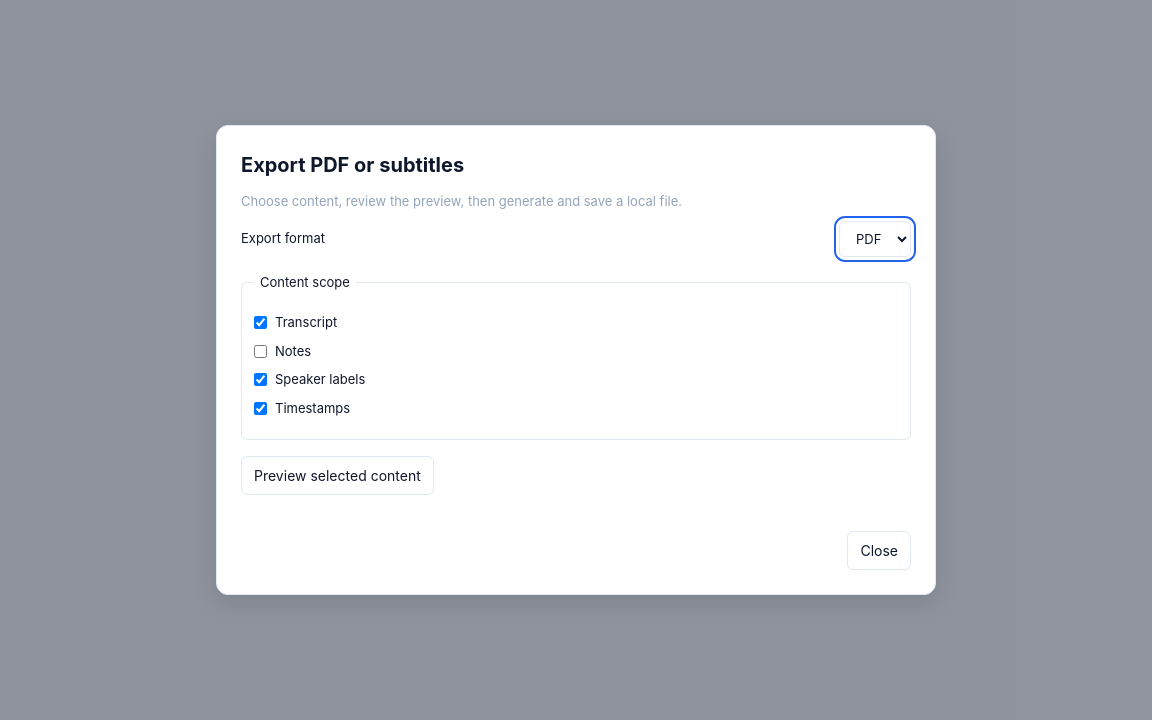
a held old preview cannot replace a newer scope; invalid preview timing is accurate retryable feedback
Click the button "Preview selected content".
click(337, 476)  # box [241,456,434,495]
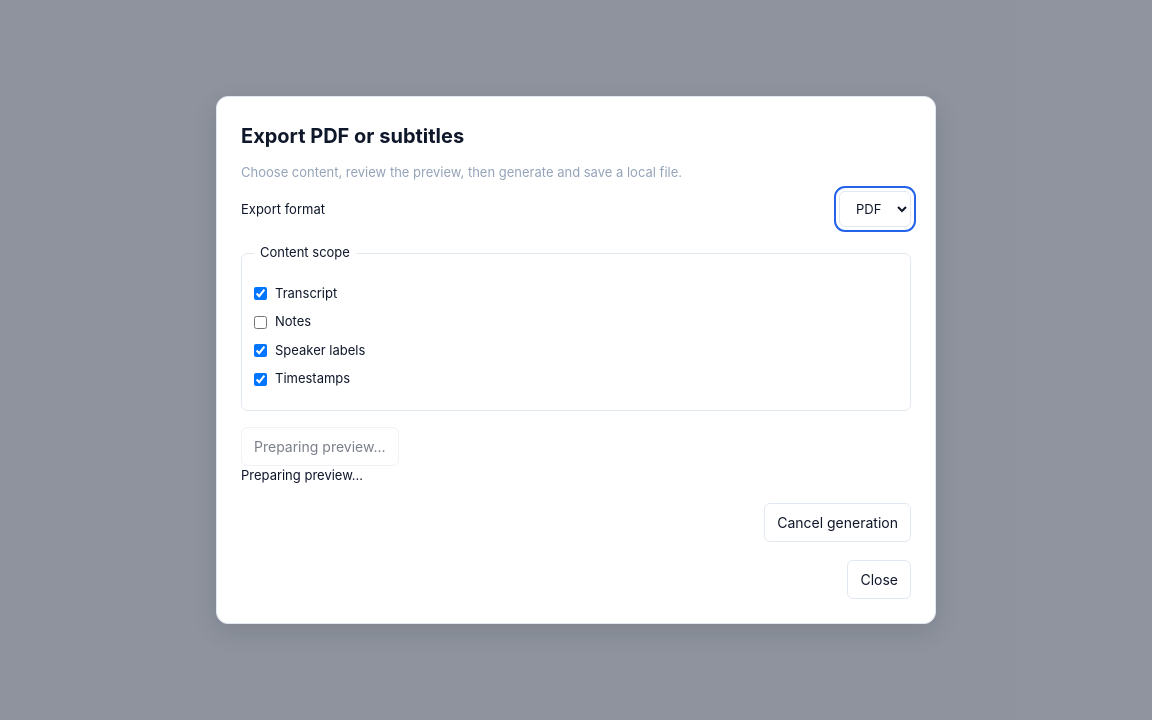
Click the checkbox labelled "Speaker labels".
click(260, 350)  # box [254,344,267,357]
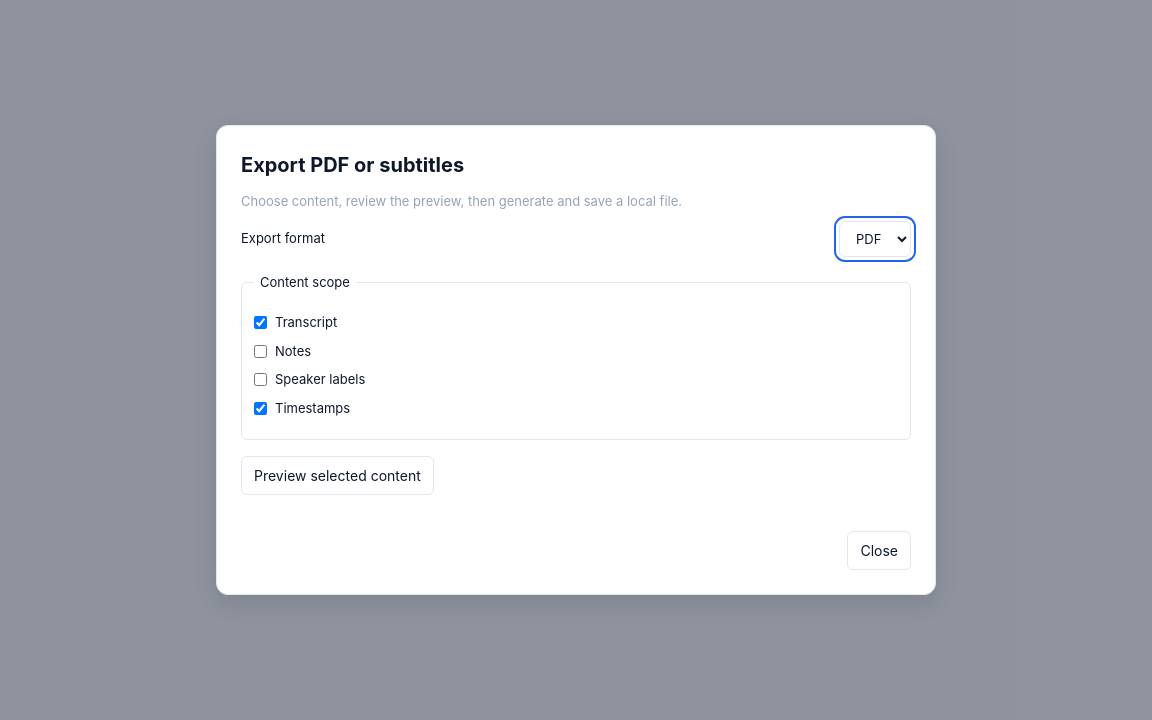
Click the button "Preview selected content".
click(337, 476)  # box [241,456,434,495]
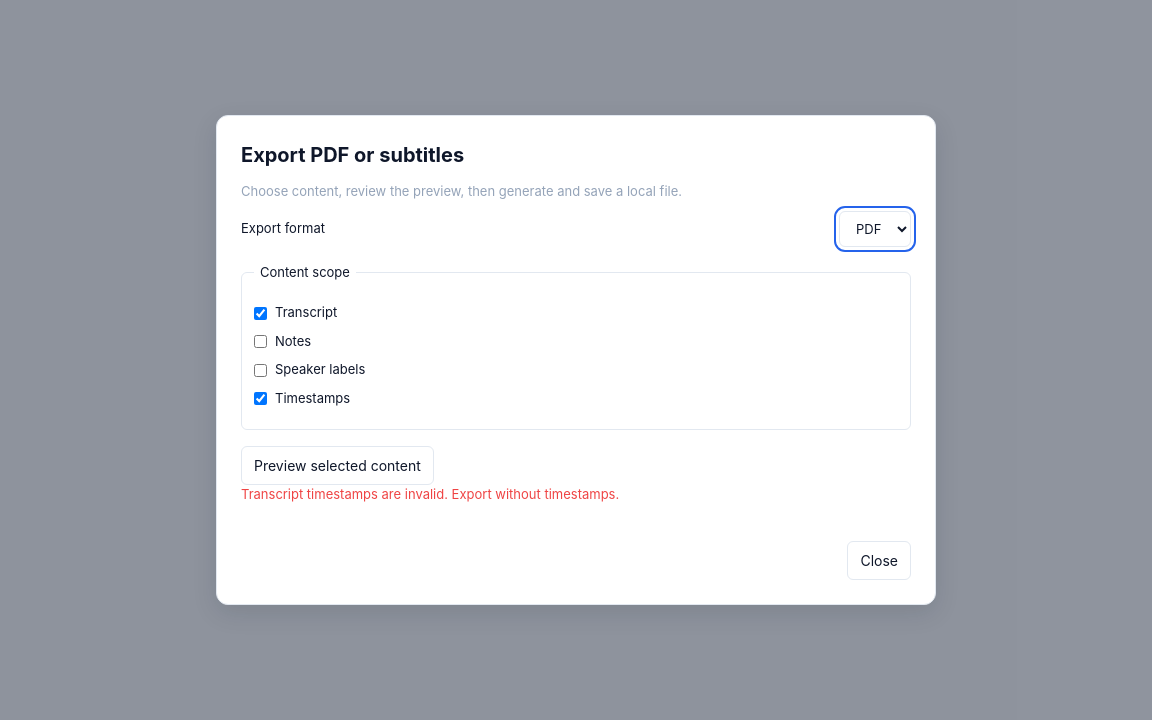
Now the button "Preview selected content" is enabled, box [241,446,434,485]
Now the message shows "timestamps are invalid", box [241,486,619,502]
